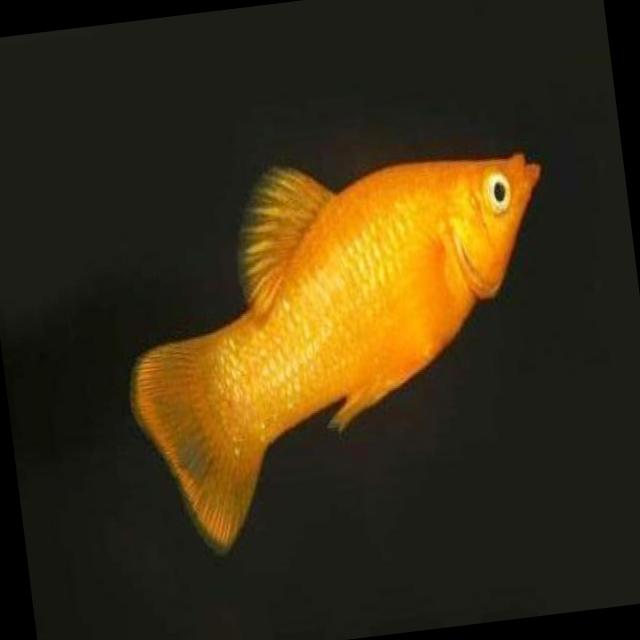PlatyFish: (95, 119, 598, 576)
